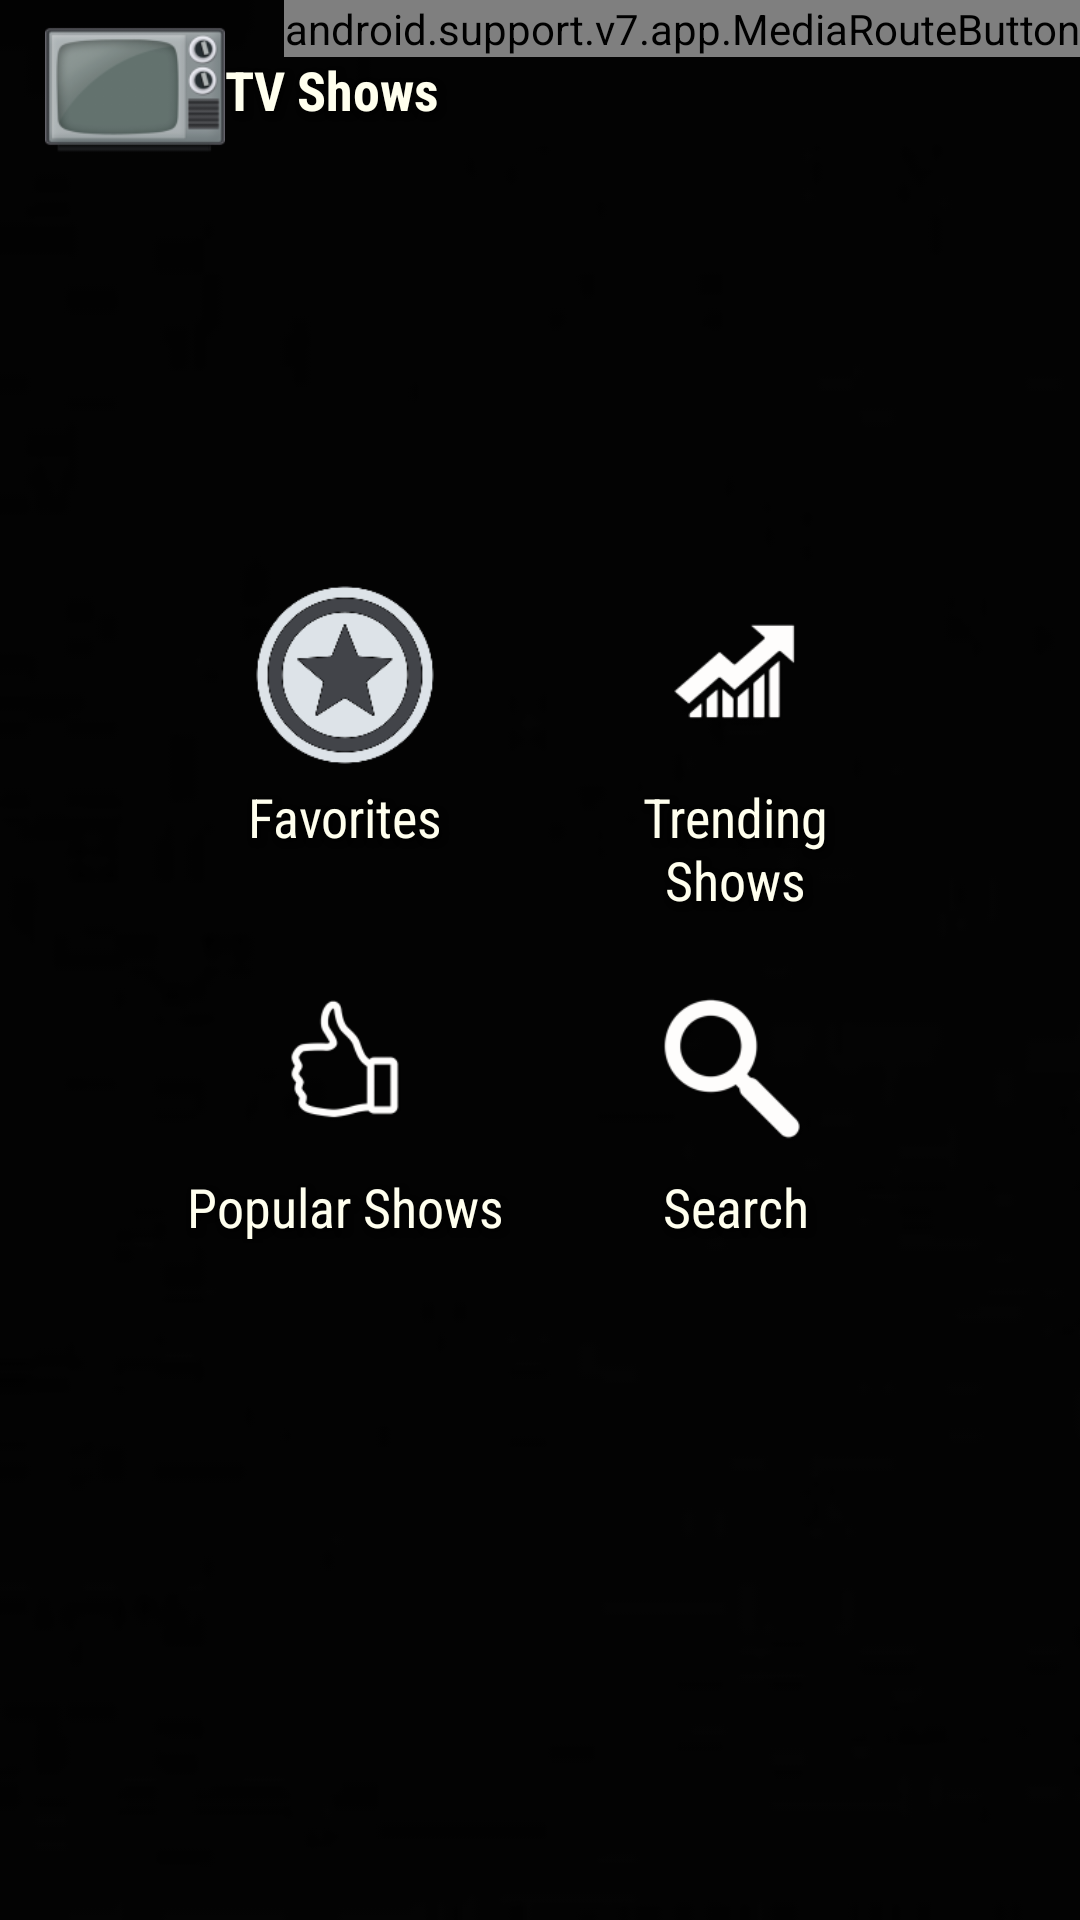

Screen size 1080x1920. Icon name, then its box in pixels as detection(x1, y1, x2, y2):
highly rated: detection(291, 1000, 399, 1118)
